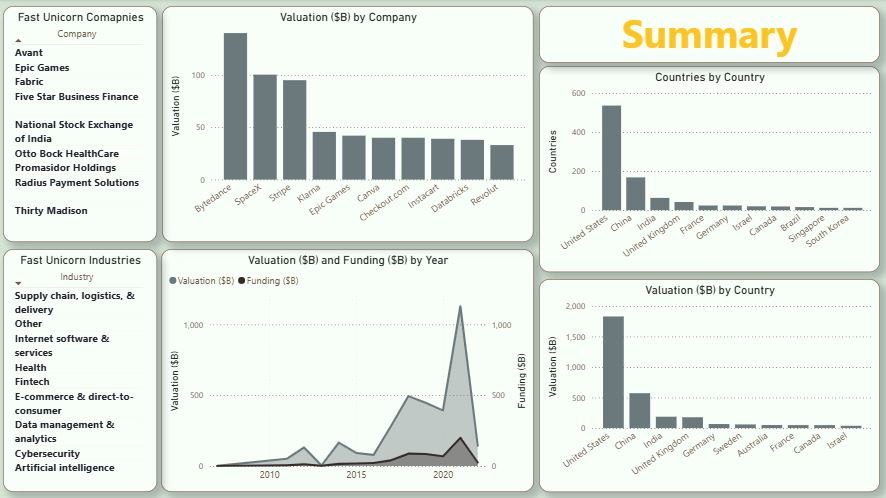

The page's visual inventory and layout, read from the dashboard file:
{"tool":"powerbi","page":{"name":"Summary","canvas":[1280,720],"ordinal":5},"visuals":[{"type":"areaChart","fields":{"Category":["Unicorn_Companies.Date Joined.Variation.Date Hierarchy.Year"],"Y2":["Sum(Unicorn_Companies.Funding ($B))"],"Y":["Sum(Unicorn_Companies.Valuation ($B))"]},"box":[233.3,360,537.1,349.9],"z":0},{"type":"columnChart","fields":{"Category":["Unicorn_Companies.Company"],"Y":["Sum(Unicorn_Companies.Valuation ($B))"]},"box":[235,10.1,535,340],"z":1000},{"type":"columnChart","fields":{"Category":["Unicorn_Companies.Country"],"Y":["CountNonNull(Unicorn_Companies.Country)"]},"box":[777.6,96.5,491,296.6],"z":2000},{"type":"columnChart","fields":{"Y":["Sum(Unicorn_Companies.Valuation ($B))"],"Category":["Unicorn_Companies.Country"]},"box":[777.6,403.2,491,306.7],"z":3000},{"type":"tableEx","title":"Fast Unicorn Comapnies","fields":{"Values":["Unicorn_Companies.Company"]},"box":[6,10.1,221.8,339.8],"z":4000},{"type":"tableEx","title":"Fast Unicorn Industries","fields":{"Values":["Unicorn_Companies.Industry"]},"box":[5.8,360,221.8,349.9],"z":5000},{"type":"textbox","box":[777.6,10.1,491,82],"z":6000},{"type":"shape","box":[799.2,10.1,449.3,82.1],"z":7000}]}

Visuals, with their boxes in screenshot pixels (x1, y1, x2, y2), scaled from the page's 1280x720 canvas onto the 886x498 screenshot:
areaChart - Unicorn_Companies.Date Joined.Variation.Date Hierarchy.Year x Sum(Unicorn_Companies.Funding ($B)): bbox=(161, 249, 533, 491)
columnChart - Unicorn_Companies.Company x Sum(Unicorn_Companies.Valuation ($B)): bbox=(163, 7, 533, 242)
columnChart - Unicorn_Companies.Country x CountNonNull(Unicorn_Companies.Country): bbox=(538, 67, 878, 272)
columnChart - Sum(Unicorn_Companies.Valuation ($B)) x Unicorn_Companies.Country: bbox=(538, 279, 878, 491)
"Fast Unicorn Comapnies" tableEx: bbox=(4, 7, 158, 242)
"Fast Unicorn Industries" tableEx: bbox=(4, 249, 158, 491)
textbox: bbox=(538, 7, 878, 64)
shape: bbox=(553, 7, 864, 64)
